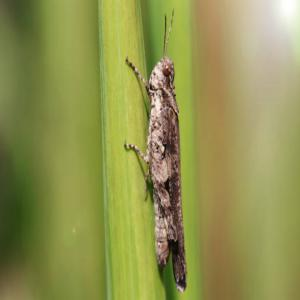locust: (125, 22, 205, 300)
